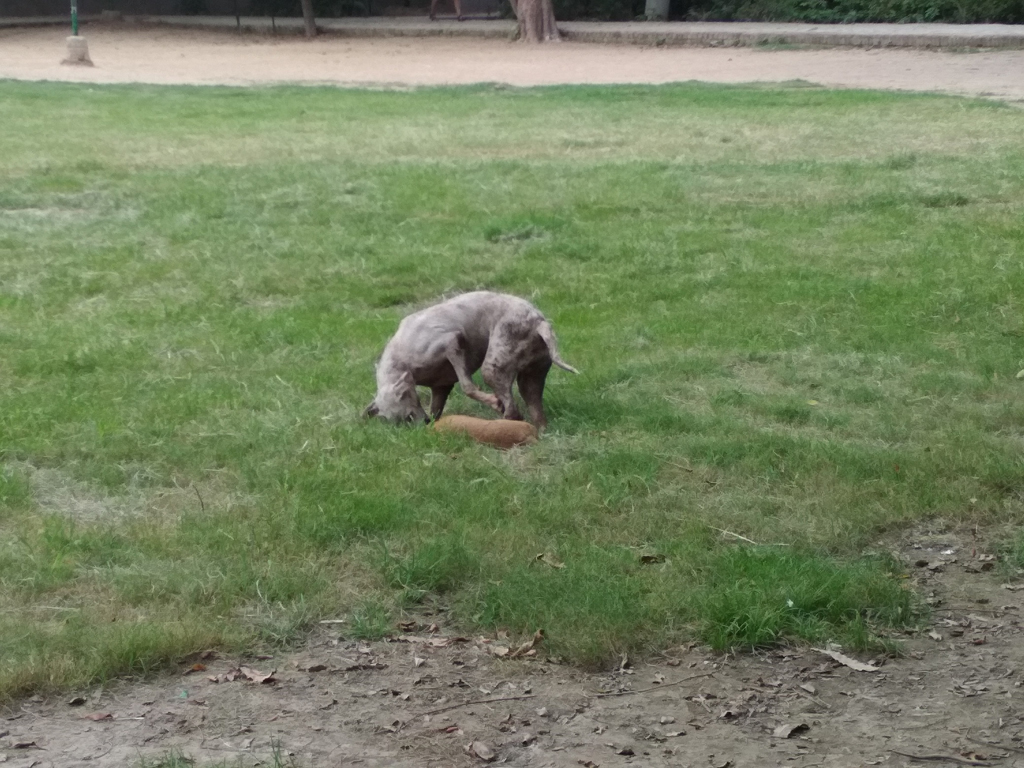dog: (364, 292, 579, 428)
